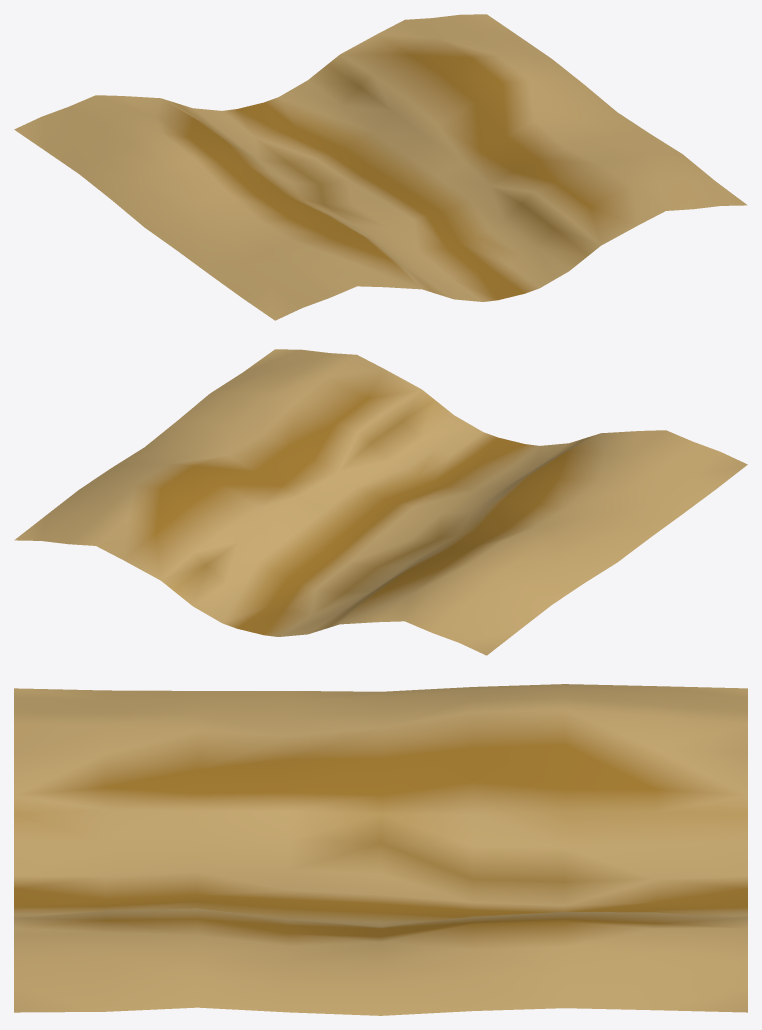
Rendered from BeachBank_Tri_V2.0.fbx.
3 views of the same model, one above another, from view 1: azimuth 30°, elevation 25°; view 2: azimuth 150°, elevation 25°; view 3: azimuth 270°, elevation 25° (orthographic). The views are drawn at different scales.
Parts seen in each view (by area): view 1: beachBank_Tri_GEO; view 2: beachBank_Tri_GEO; view 3: beachBank_Tri_GEO.
Part boxes in pixels (x1,y1,x2,y2): beachBank_Tri_GEO: [14, 14, 747, 320]; beachBank_Tri_GEO: [14, 349, 747, 655]; beachBank_Tri_GEO: [14, 684, 747, 1015].
Bounding box in the file's own units: 8360 × 1075 × 8000.
